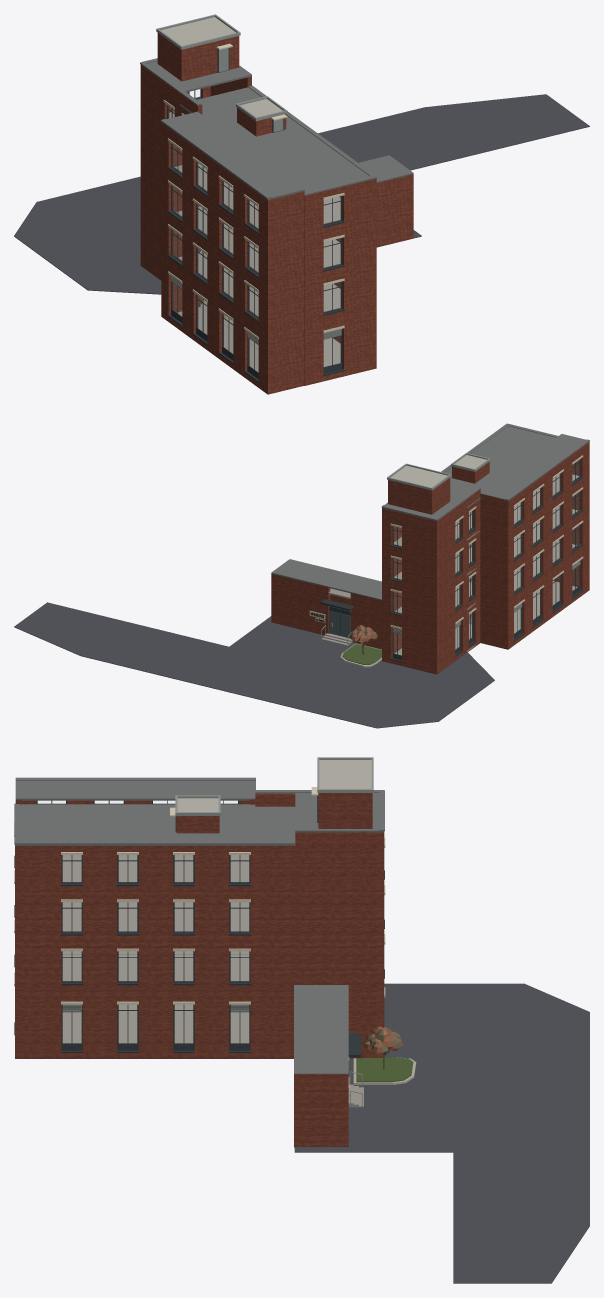
Rendered from pe_north_annex.glb.
3 views of the same model, one above another, from view 1: azimuth 30°, elevation 25°; view 2: azimuth 150°, elevation 25°; view 3: azimuth 270°, elevation 25° (orthographic). The views are drawn at different scales.
Visible parts, largest first — view 1: PE_North_Annex; view 2: PE_North_Annex; view 3: PE_North_Annex.
Part boxes in pixels (x1,y1,x2,y2): PE_North_Annex: (14,14,589,394); PE_North_Annex: (14,423,589,728); PE_North_Annex: (14,757,589,1283).
Size of the model in its own units: 44.3 by 18.54 by 36.03.
21 materials, 3 textured.
